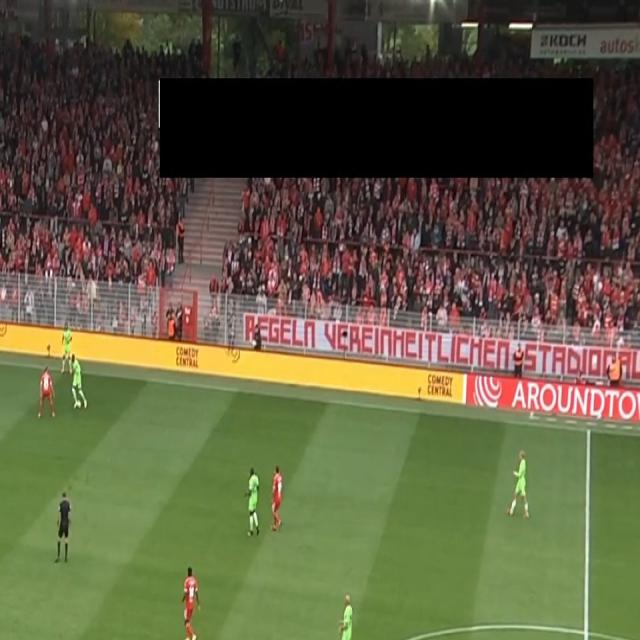ball: (75, 399, 82, 410)
